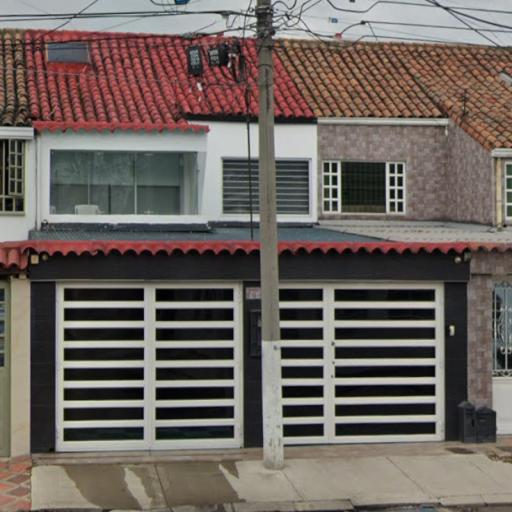poste: (249, 1, 289, 470)
